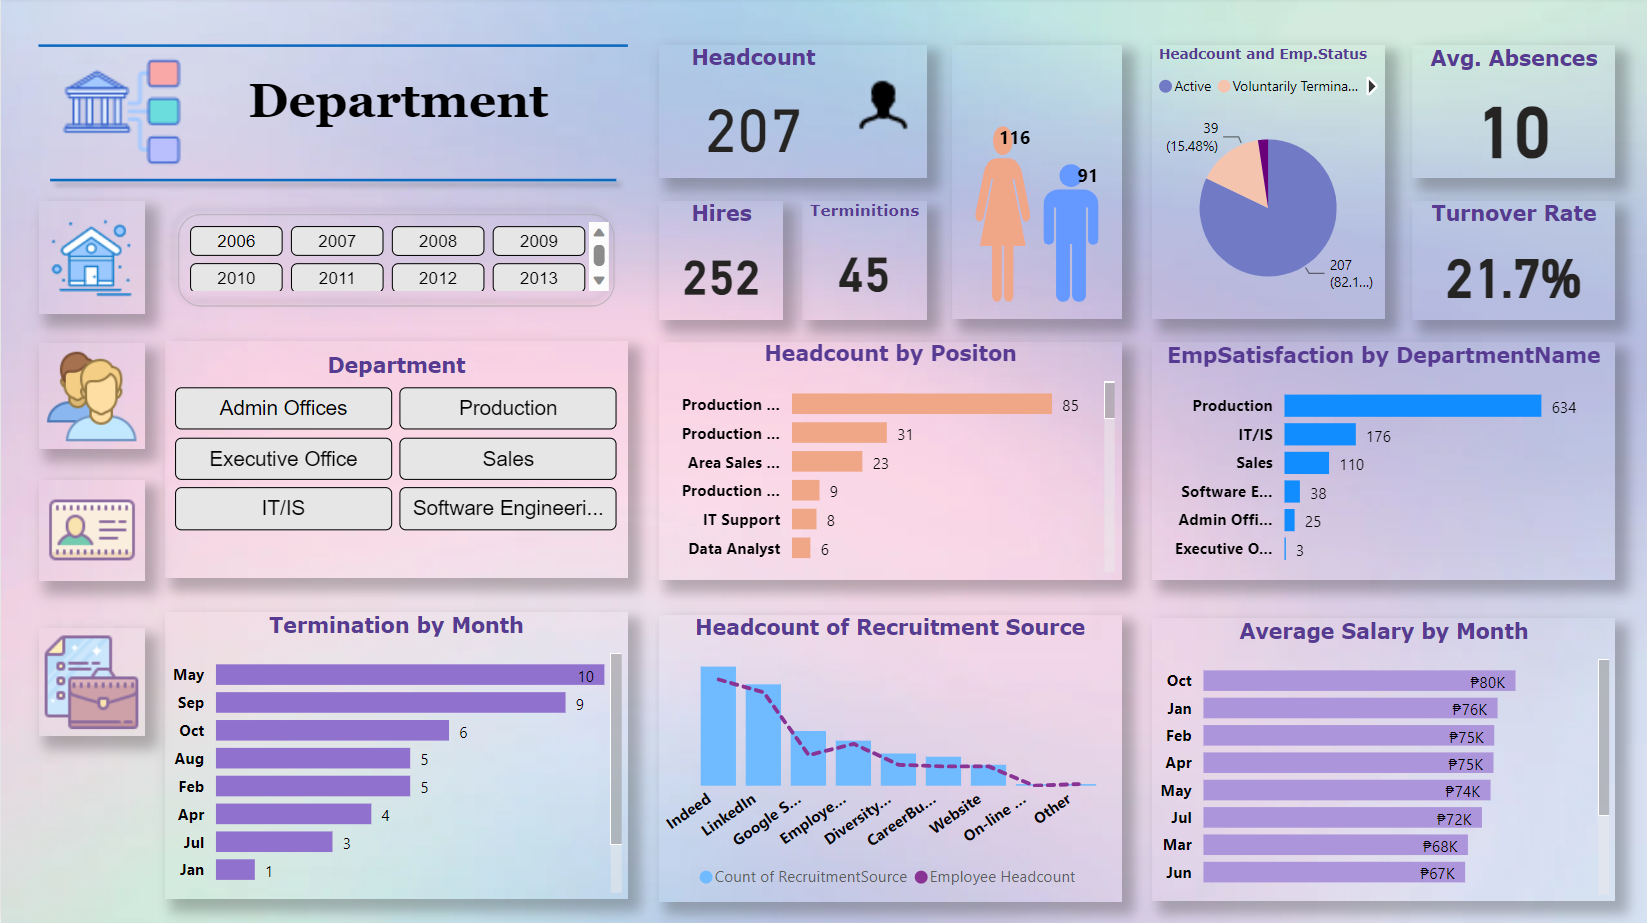

The page's visual inventory and layout, read from the dashboard file:
{"tool":"powerbi","page":{"name":"DEPARMENT","canvas":[1280,720],"ordinal":3},"visuals":[{"type":"shape","box":[127.5,478.4,359.9,223.4],"z":0},{"type":"shape","box":[511.1,479.6,359.9,223.4],"z":1000},{"type":"shape","box":[894.8,482.9,359.9,220],"z":2000},{"type":"shape","box":[127.5,267.4,359.9,185.1],"z":3000},{"type":"shape","box":[511.1,268.5,359.9,185.1],"z":4000},{"type":"shape","box":[894.8,268.5,359.9,185.1],"z":5000},{"type":"shape","box":[127.5,158,359.9,92.5],"z":6000},{"type":"shape","box":[739.1,37.2,132,213.3],"z":7000},{"type":"shape","box":[511.1,37.2,208.7,103.8],"z":8000},{"type":"shape","box":[511.1,158,97,92.5],"z":9000},{"type":"shape","box":[622.9,158,97,92.5],"z":10000},{"type":"shape","box":[1096.8,37.2,158,103.8],"z":11000},{"type":"shape","box":[1096.8,158,158,92.5],"z":12000},{"type":"shape","box":[894.8,37.2,180.5,213.3],"z":13000},{"type":"shape","box":[29.3,0,458.1,75.6],"z":14000},{"type":"shape","box":[29.3,115.1,458.1,55.3],"z":15000},{"type":"image","box":[29.3,37.2,128.6,103.8],"z":16000},{"type":"textbox","box":[159.1,54.2,299,70],"z":17000},{"type":"ChicletSlicer1448559807354","fields":{"Category":["Dates.Year"]},"box":[138.8,170.4,338.5,65.4],"z":18000},{"type":"card","title":"Headcount","fields":{"Values":["calculation.Employee Headcount"]},"box":[512.3,37.2,145.6,103.8],"z":19000},{"type":"card","title":"Hires","fields":{"Values":["calculation.Hires"]},"box":[512.3,158,95.9,93.7],"z":20000},{"type":"card","title":"Terminitions","fields":{"Values":["calculation.TerminationCount"]},"box":[622.9,158,97,93.7],"z":21000},{"type":"image","box":[657.8,45.1,56.4,79],"z":22000},{"type":"image","box":[29.3,158,82.4,88],"z":23000},{"type":"image","box":[29.3,269.1,82.4,82.4],"z":24000},{"type":"image","box":[29.3,374.6,82.4,79],"z":25000},{"type":"ChicletSlicer1448559807354","title":"Department","fields":{"Category":["Department.DepartmentName"]},"box":[127.5,268.5,359.9,183.9],"z":26000},{"type":"barChart","title":"Headcount by Positon","fields":{"Category":["Position.Positon Name"],"Y":["calculation.Employee Headcount"]},"box":[512.3,267.4,358.8,185.1],"z":27000},{"type":"barChart","title":"EmpSatisfaction by DepartmentName","fields":{"Category":["Department.DepartmentName"],"Y":["Sum(HR_Data.EmpSatisfaction)"]},"box":[894.8,268.5,359.9,183.9],"z":28000},{"type":"card","title":"Turnover Rate","fields":{"Values":["calculation.TurnOverRate"]},"box":[1096.8,158,158,93.7],"z":29000},{"type":"barChart","title":"Termination by Month","fields":{"Y":["CountNonNull(HR_Data.DateofTermination)"],"Category":["Dates.MonthName"]},"box":[127.5,478.4,359.9,223.4],"z":30000},{"type":"barChart","title":"Average Salary by Month","fields":{"Category":["Dates.MonthName"],"Y":["calculation.AverageSalary"]},"box":[894.8,482.9,359.9,220],"z":31000},{"type":"lineStackedColumnComboChart","title":"Headcount of Recruitment Source","fields":{"Y":["CountNonNull(HR_Data.RecruitmentSource)"],"Category":["HR_Data.RecruitmentSource"],"Y2":["calculation.Employee Headcount"]},"box":[511.1,479.6,359.9,222.3],"z":32000},{"type":"card","title":"Avg. Absences","fields":{"Values":["calculation.Average Absence"]},"box":[1096.8,38.4,158,102.7],"z":33000},{"type":"pieChart","title":"Headcount and Emp.Status","fields":{"Category":["HR_Data.EmploymentStatus"],"Y":["CountNonNull(HR_Data.EmpID)"]},"box":[894.8,38.4,180.5,212.1],"z":34000},{"type":"PBI_CV_73744D90_4DC9_4F18_8BA5_EE8FA5C98035","title":"Gender Count","fields":{"Category":["HR_Data.Sex"],"Values":["calculation.Employee Headcount"]},"box":[739.1,38.4,132,212.1],"z":35000},{"type":"image","box":[29.2,490.5,82.7,83.7],"z":35001}]}

Visuals, with their boxes in screenshot pixels (x1, y1, x2, y2), scaled from the page's 1280x720 canvas onto the 1647x923 screenshot:
shape: bbox=[164, 613, 627, 900]
shape: bbox=[658, 615, 1121, 901]
shape: bbox=[1151, 619, 1614, 901]
shape: bbox=[164, 343, 627, 580]
shape: bbox=[658, 344, 1121, 581]
shape: bbox=[1151, 344, 1614, 581]
shape: bbox=[164, 203, 627, 321]
shape: bbox=[951, 48, 1121, 321]
shape: bbox=[658, 48, 926, 181]
shape: bbox=[658, 203, 782, 321]
shape: bbox=[801, 203, 926, 321]
shape: bbox=[1411, 48, 1615, 181]
shape: bbox=[1411, 203, 1615, 321]
shape: bbox=[1151, 48, 1384, 321]
shape: bbox=[38, 0, 627, 97]
shape: bbox=[38, 148, 627, 218]
image: bbox=[38, 48, 203, 181]
textbox: bbox=[205, 69, 589, 159]
ChicletSlicer1448559807354 - Dates.Year: bbox=[179, 218, 614, 302]
"Headcount" card: bbox=[659, 48, 847, 181]
"Hires" card: bbox=[659, 203, 783, 323]
"Terminitions" card: bbox=[801, 203, 926, 323]
image: bbox=[846, 58, 919, 159]
image: bbox=[38, 203, 144, 315]
image: bbox=[38, 345, 144, 451]
image: bbox=[38, 480, 144, 581]
"Department" ChicletSlicer1448559807354: bbox=[164, 344, 627, 580]
"Headcount by Positon" barChart: bbox=[659, 343, 1121, 580]
"EmpSatisfaction by DepartmentName" barChart: bbox=[1151, 344, 1614, 580]
"Turnover Rate" card: bbox=[1411, 203, 1615, 323]
"Termination by Month" barChart: bbox=[164, 613, 627, 900]
"Average Salary by Month" barChart: bbox=[1151, 619, 1614, 901]
"Headcount of Recruitment Source" lineStackedColumnComboChart: bbox=[658, 615, 1121, 900]
"Avg. Absences" card: bbox=[1411, 49, 1615, 181]
"Headcount and Emp.Status" pieChart: bbox=[1151, 49, 1384, 321]
"Gender Count" PBI_CV_73744D90_4DC9_4F18_8BA5_EE8FA5C98035: bbox=[951, 49, 1121, 321]
image: bbox=[38, 629, 144, 736]
